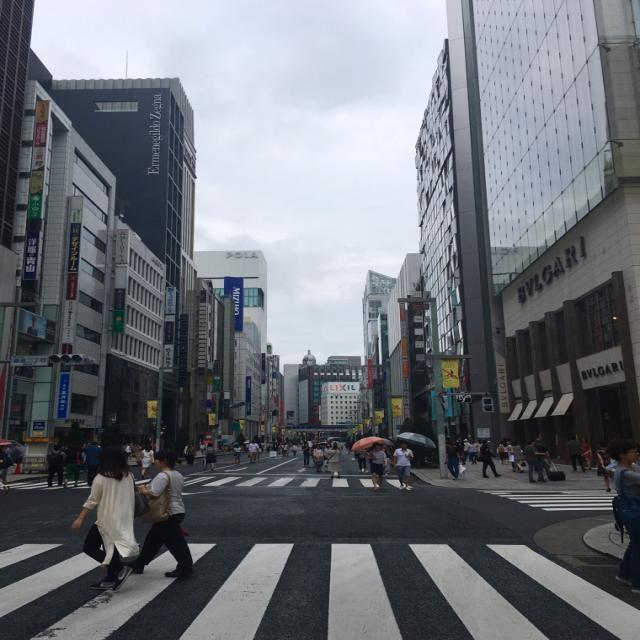body: (70, 433, 563, 475), (66, 444, 152, 594), (117, 447, 196, 579), (601, 436, 639, 596), (594, 448, 639, 533), (0, 434, 34, 493), (532, 437, 567, 482), (391, 439, 415, 491), (521, 438, 548, 483), (365, 441, 389, 491), (594, 440, 616, 492), (44, 443, 67, 488), (442, 441, 467, 481), (62, 443, 84, 488), (82, 441, 104, 486), (478, 439, 502, 478), (563, 434, 587, 473), (324, 444, 343, 479), (140, 444, 156, 480), (508, 441, 524, 474), (579, 436, 592, 471), (202, 442, 217, 472), (23, 313, 42, 336), (310, 444, 325, 473), (354, 448, 370, 473), (299, 440, 312, 468), (247, 438, 260, 464), (184, 442, 197, 467), (232, 444, 242, 466), (183, 442, 190, 465)
